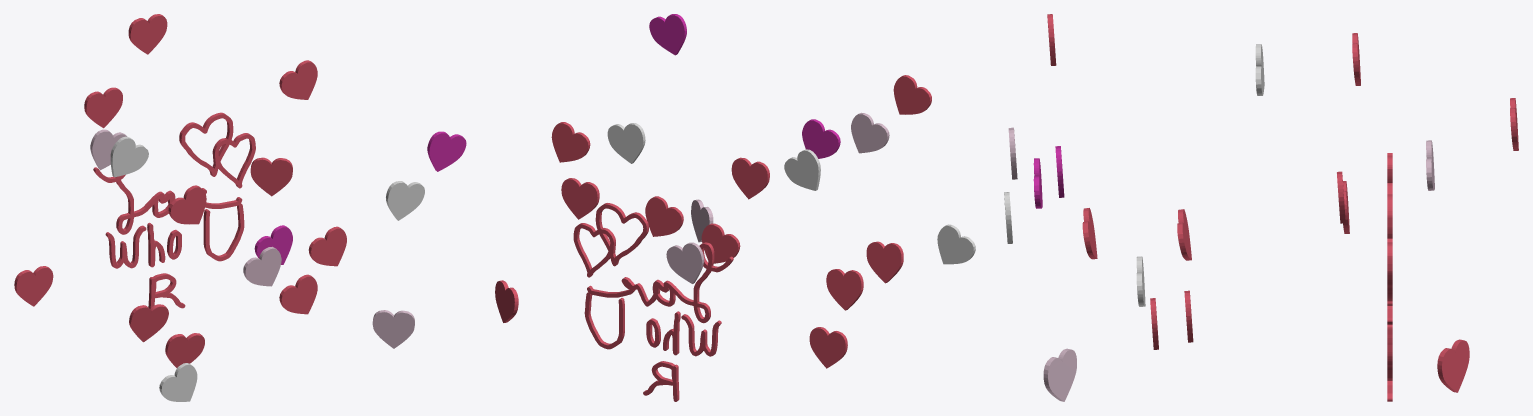
The model's file is LovewhoUR.glb.
The picture shows the model from 3 angles, left to right: view 1: azimuth 30°, elevation 25°; view 2: azimuth 150°, elevation 25°; view 3: azimuth 270°, elevation 25°; orthographic projection. The views are drawn at different scales.
Visible parts, largest first — view 1: Mesh_Mesh_head_geo.001_lambert2SG.001; view 2: Mesh_Mesh_head_geo.001_lambert2SG.001; view 3: Mesh_Mesh_head_geo.001_lambert2SG.001.
Part boxes in pixels (box(x1,y1,x2,y2)): Mesh_Mesh_head_geo.001_lambert2SG.001: box(14, 14, 466, 401); Mesh_Mesh_head_geo.001_lambert2SG.001: box(495, 14, 975, 401); Mesh_Mesh_head_geo.001_lambert2SG.001: box(1004, 14, 1518, 401).
Size of the model in its own units: 170 by 127 by 190.
